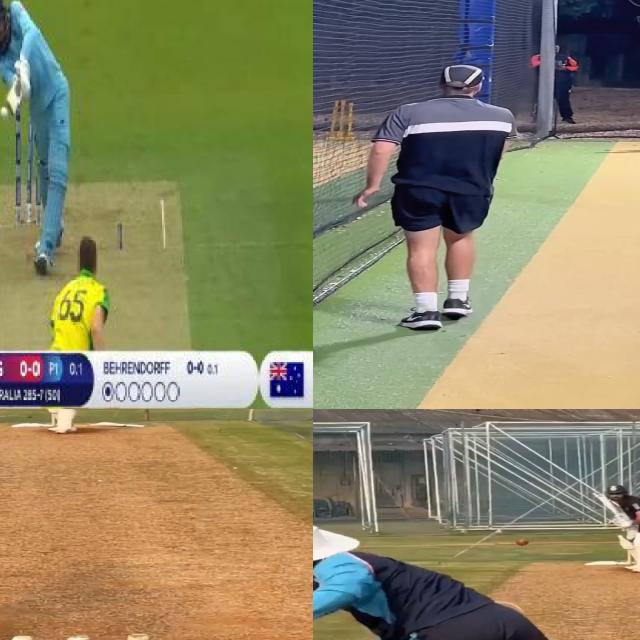Cricket ball: (514, 538, 530, 546), (0, 106, 9, 117)
